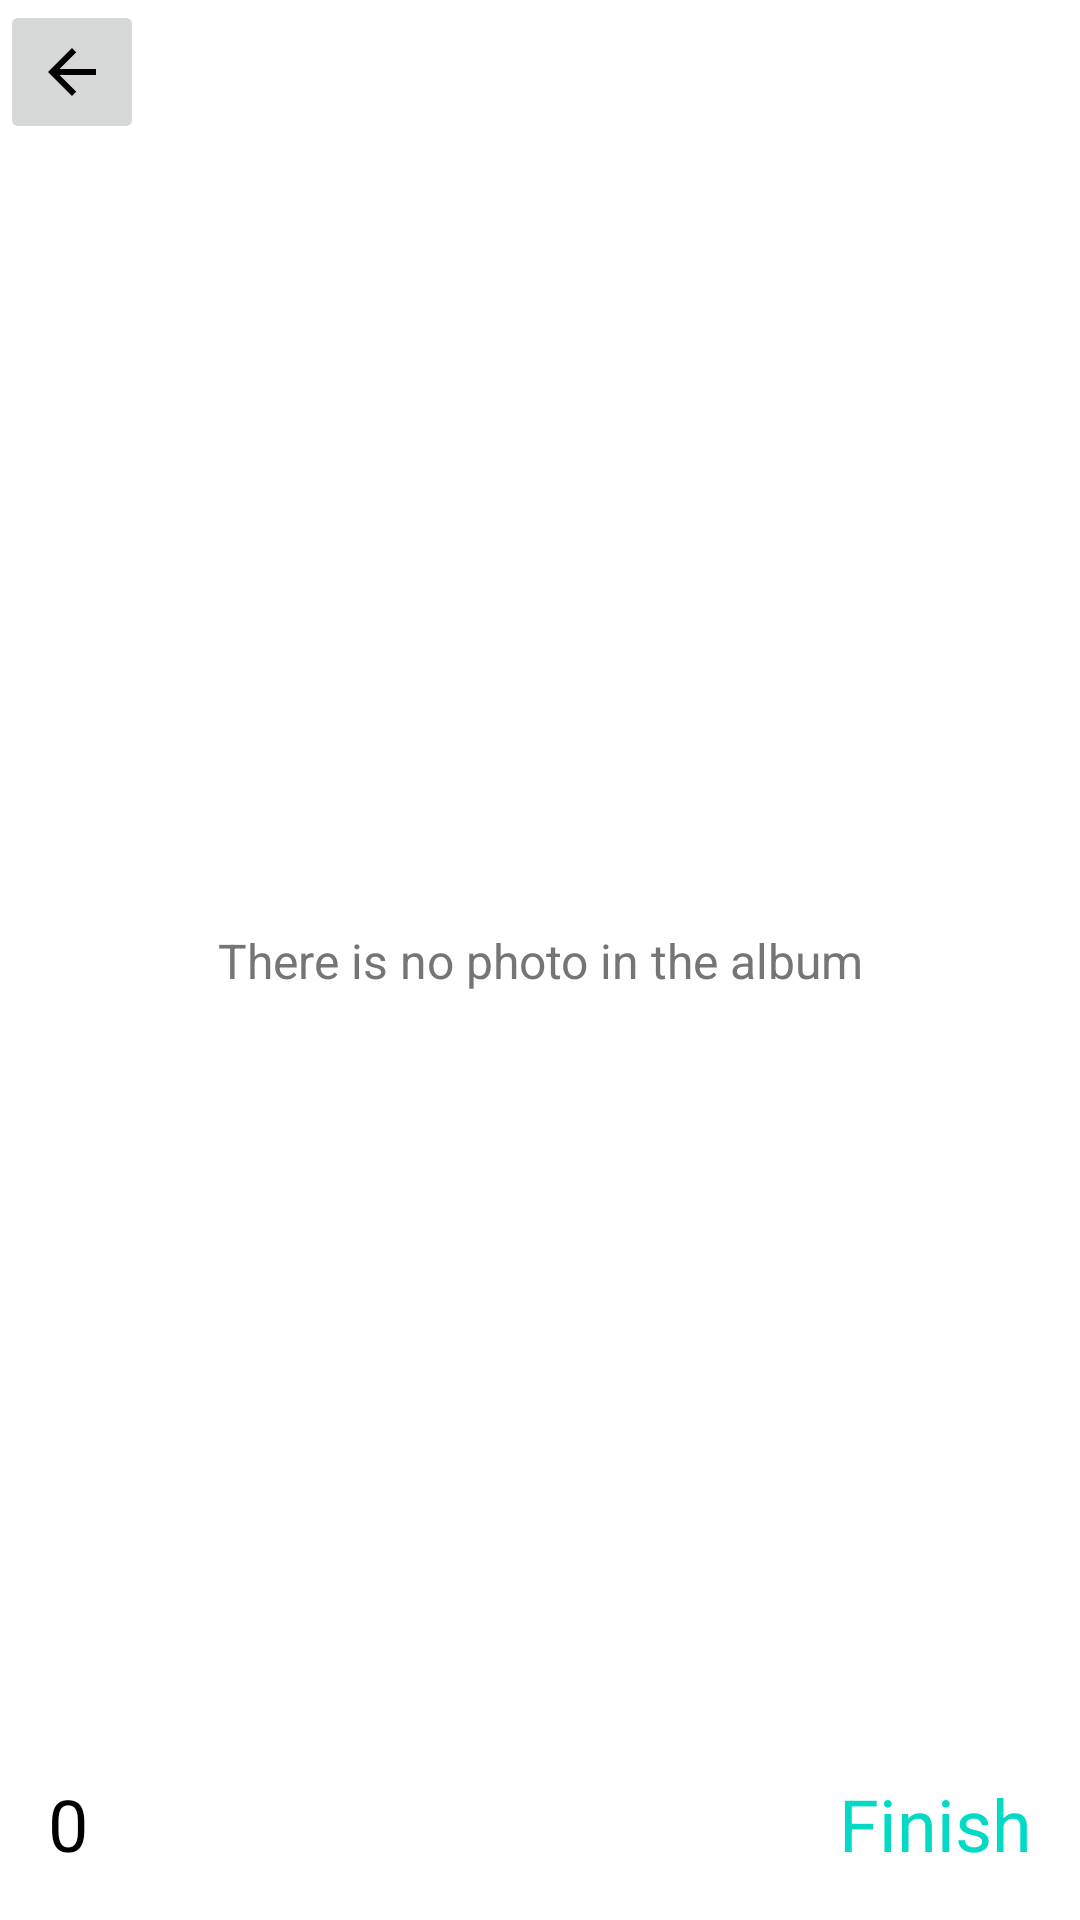

Locate icon controls on the screen. Image size 1080w x 1920h, boxes as (x1, y1, x2, y2).
return: (12, 18, 132, 126)
